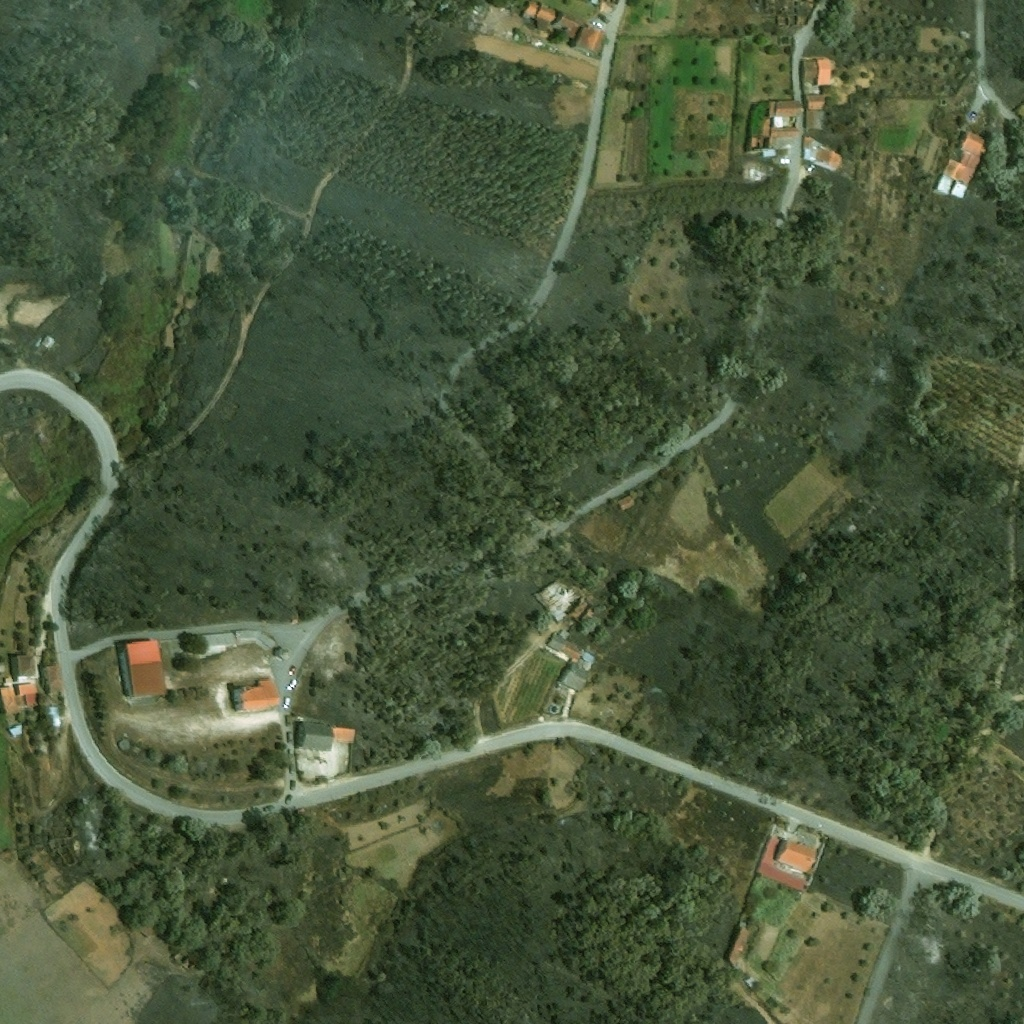0 no-damage: (118, 639, 169, 700), (533, 576, 585, 625), (936, 152, 982, 201), (295, 721, 357, 750), (772, 837, 818, 876), (232, 679, 281, 712), (0, 684, 38, 724), (749, 128, 799, 157), (574, 25, 608, 59), (546, 633, 585, 662), (558, 662, 589, 695), (960, 130, 990, 158), (552, 16, 584, 42), (801, 59, 831, 86), (773, 101, 801, 128), (531, 6, 557, 34), (814, 147, 843, 171), (11, 655, 38, 679), (40, 666, 62, 694), (802, 136, 821, 163), (46, 707, 63, 729), (521, 1, 540, 20), (805, 110, 823, 129), (806, 94, 827, 109), (40, 334, 56, 350), (751, 167, 769, 178), (8, 723, 23, 736), (580, 653, 595, 666)
4 un-classified: (471, 0, 493, 27), (589, 0, 601, 6)
